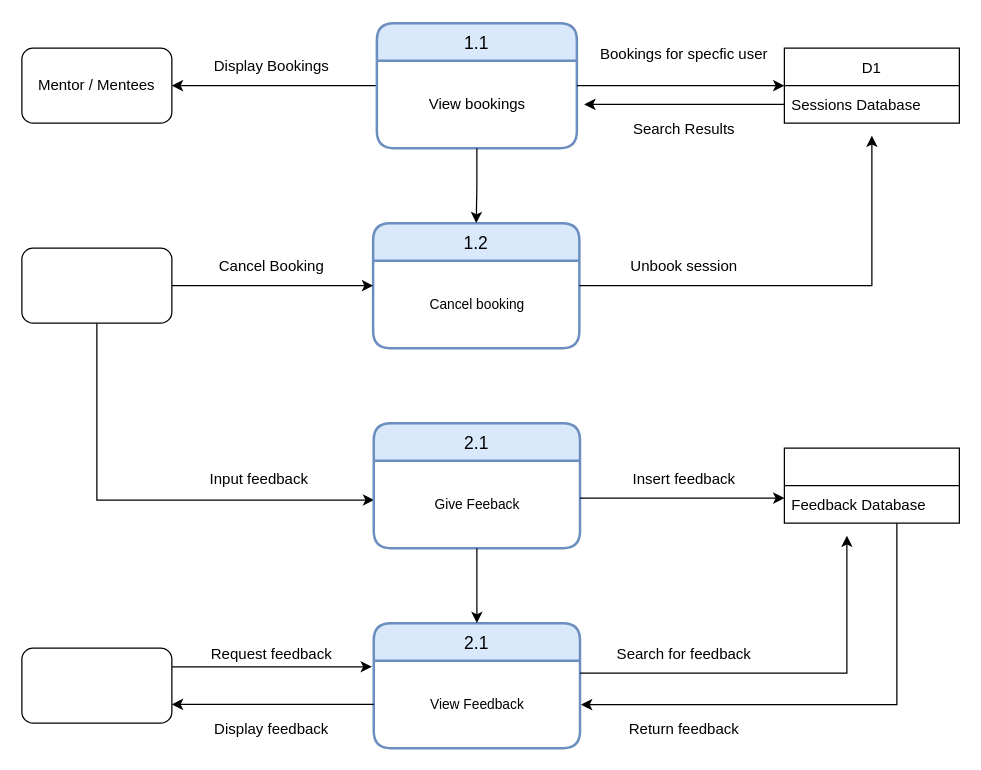
Image size: 981x770. Some labels were removed from this diagram. The box of each missing label's shape, as (x1, y1, x2, y2) in pixels:
D2: (783, 447, 959, 523)
Mentees: (21, 247, 172, 323)
Mentors: (21, 647, 172, 723)
